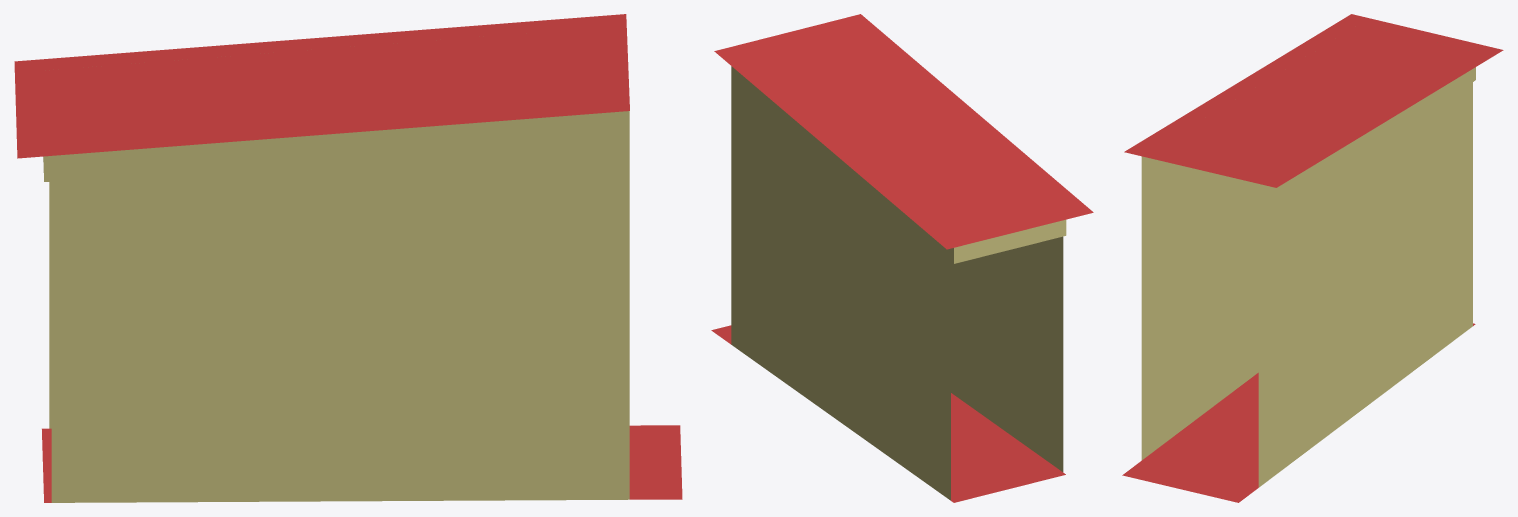
3 views of the same model, side by side, from view 1: azimuth 30°, elevation 25°; view 2: azimuth 150°, elevation 25°; view 3: azimuth 270°, elevation 25° (orthographic). The views are drawn at different scales.
Size of the model in its own units: 12.58 by 9.29 by 8.17.
